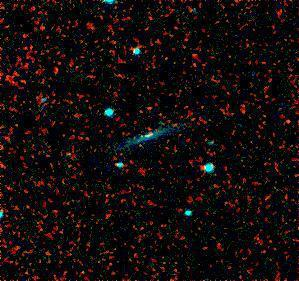star: (125, 120, 155, 150)
